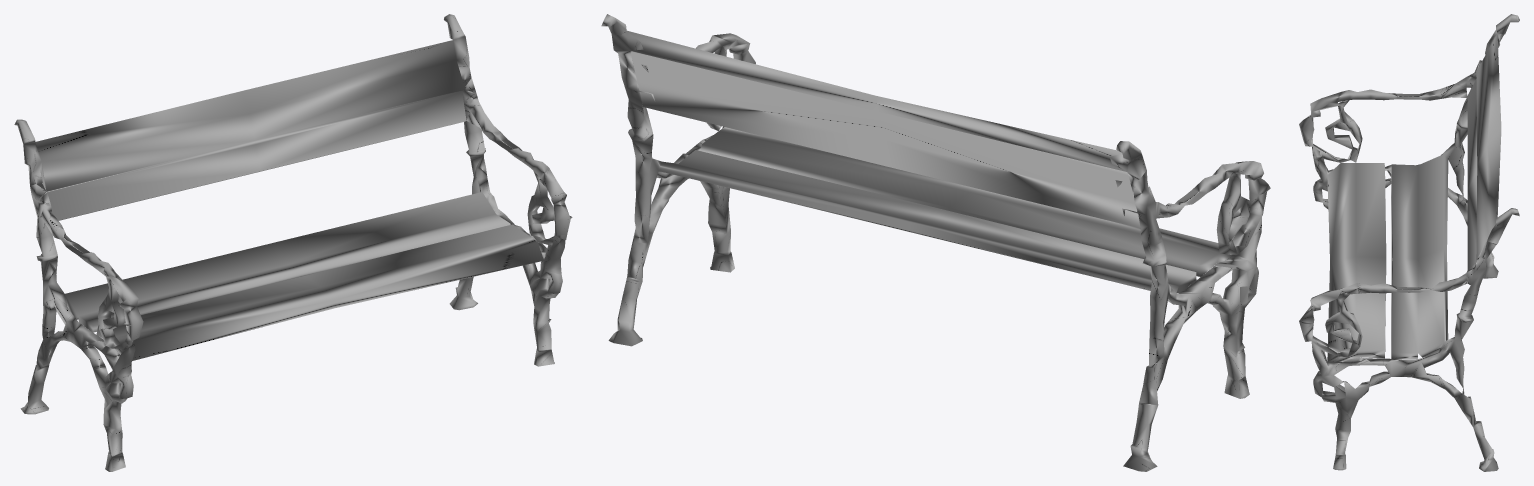
The model's file is bench.glb.
3 views of the same model, side by side, from view 1: azimuth 30°, elevation 25°; view 2: azimuth 150°, elevation 25°; view 3: azimuth 270°, elevation 25° (orthographic). The views are drawn at different scales.
Parts seen in each view (by area): view 1: Park Bench; view 2: Park Bench; view 3: Park Bench.
Boxes of the visible parts, left/top/right/bottom form: Park Bench: left=14, top=14, right=572, bottom=471; Park Bench: left=601, top=14, right=1270, bottom=471; Park Bench: left=1299, top=14, right=1519, bottom=471.
Bounding box in the file's own units: 1.89 × 1.11 × 0.8648.
Materials: 1 (1 with a texture image).
